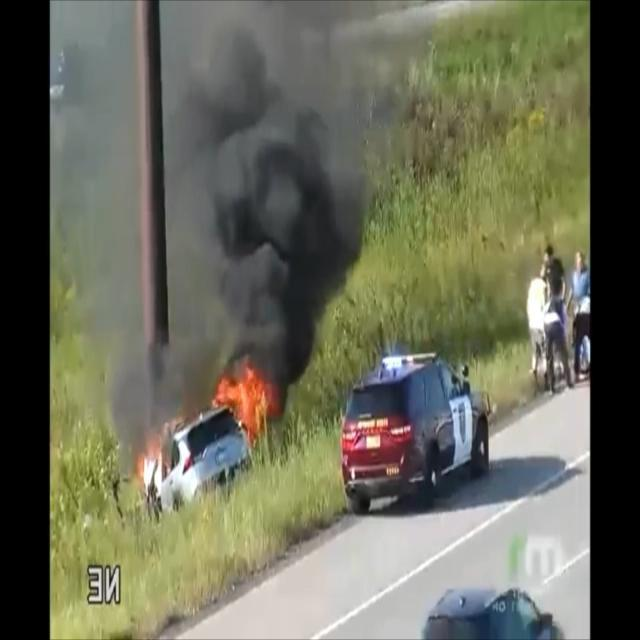fire: (216, 360, 281, 440), (126, 436, 168, 482)
